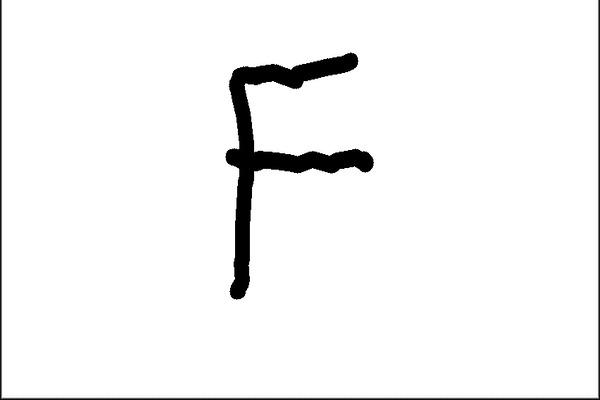F: (221, 47, 378, 304)
